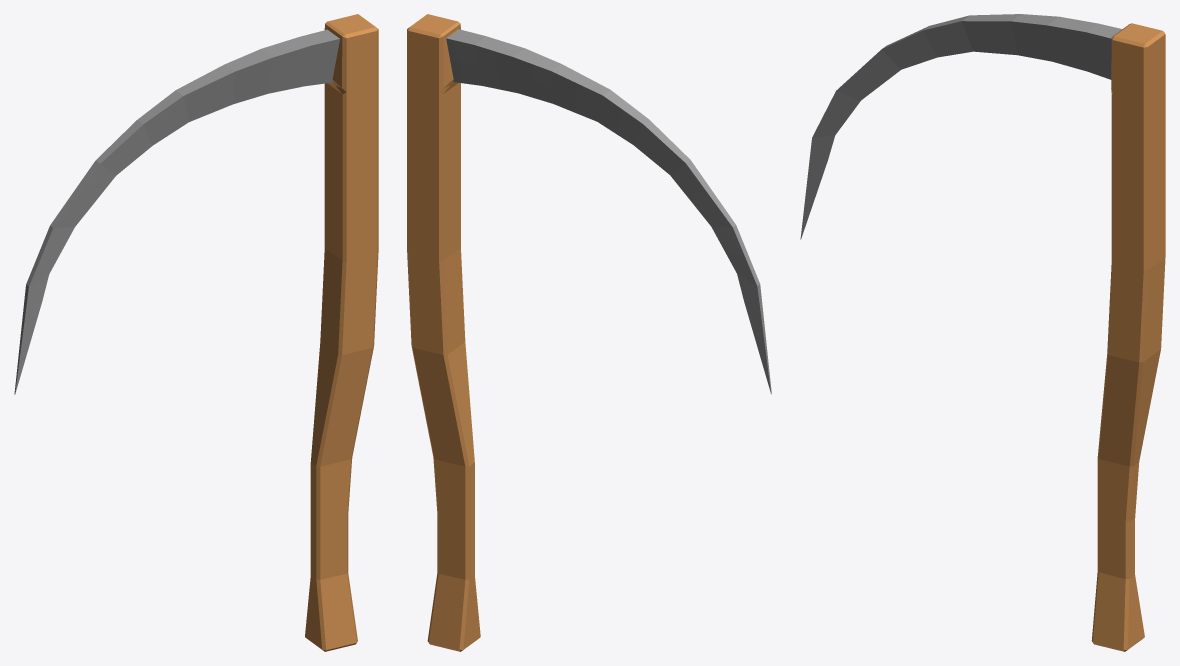
File: Scythe.fbx
The picture shows the model from 3 angles, left to right: view 1: azimuth 30°, elevation 25°; view 2: azimuth 150°, elevation 25°; view 3: azimuth 330°, elevation 25°; orthographic projection.
Parts seen in each view (by area): view 1: Scythe_handle, Scythe_edge; view 2: Scythe_handle, Scythe_edge; view 3: Scythe_handle, Scythe_edge.
Boxes of the visible parts, x1=… form: Scythe_handle: x1=305, y1=14, x2=378, y2=651; Scythe_edge: x1=14, y1=29, x2=339, y2=394; Scythe_handle: x1=407, y1=14, x2=480, y2=651; Scythe_edge: x1=446, y1=29, x2=771, y2=394; Scythe_handle: x1=1091, y1=23, x2=1165, y2=651; Scythe_edge: x1=800, y1=14, x2=1122, y2=239.
Size of the model in its own units: 253 by 416 by 25.6.
